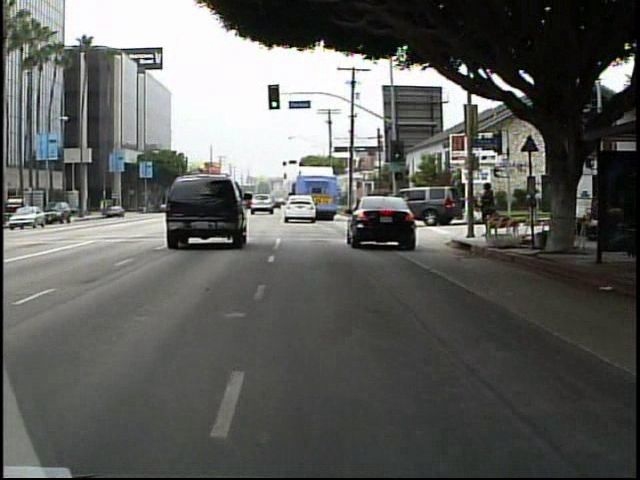person: (477, 177, 498, 242), (521, 181, 541, 237)
